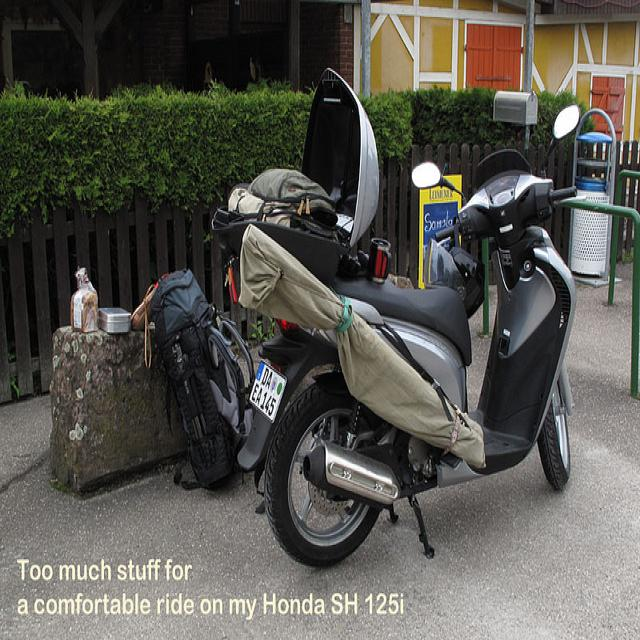motor: (219, 105, 581, 572)
